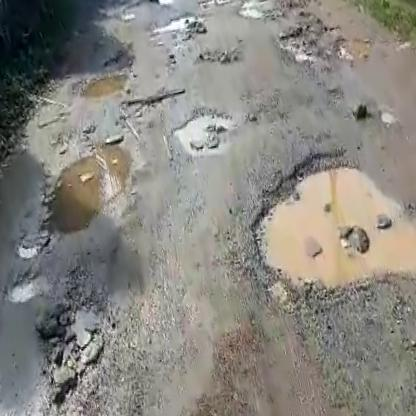pothole: (234, 131, 416, 315), (20, 135, 148, 250), (30, 290, 135, 416), (272, 0, 376, 81), (166, 103, 235, 157), (116, 83, 192, 119), (147, 4, 216, 41), (72, 67, 133, 106), (0, 267, 51, 308)
